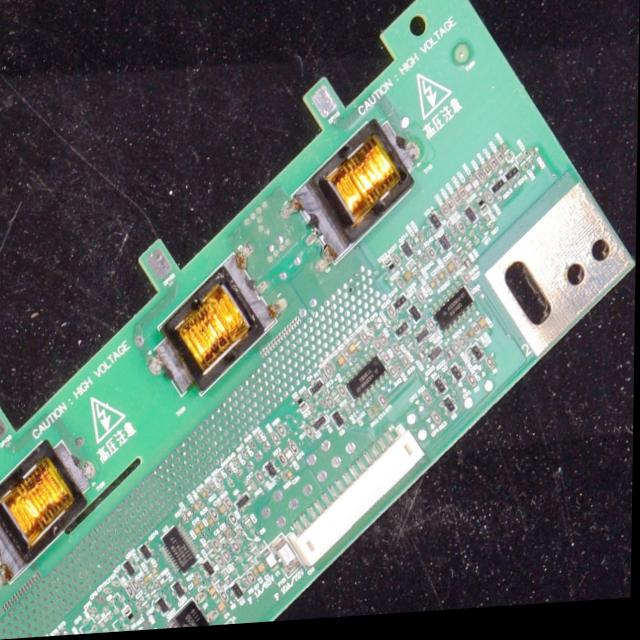IC: (427, 292, 481, 337), (343, 358, 396, 403), (161, 525, 199, 573), (171, 594, 216, 631)
capacitor: (345, 344, 362, 361), (476, 324, 495, 338), (461, 187, 477, 203), (469, 183, 484, 199), (334, 359, 350, 374), (215, 604, 232, 618), (255, 475, 270, 489), (243, 484, 257, 499), (191, 503, 206, 517), (401, 276, 417, 289), (257, 565, 273, 578), (209, 584, 221, 601), (223, 529, 237, 543), (285, 472, 300, 485), (446, 267, 459, 281), (208, 510, 221, 524), (185, 510, 198, 523), (253, 571, 266, 583), (192, 580, 205, 592), (218, 537, 232, 548), (218, 506, 230, 518), (412, 240, 423, 253), (428, 286, 440, 297), (205, 519, 217, 530), (152, 570, 164, 581), (196, 526, 210, 535), (200, 492, 211, 503), (194, 529, 205, 540), (468, 335, 478, 346), (438, 279, 449, 288), (143, 577, 153, 586)
resistor: (418, 393, 436, 413), (289, 444, 306, 460), (376, 400, 394, 415), (301, 430, 319, 445), (209, 542, 228, 556), (462, 263, 478, 278), (485, 364, 501, 379), (276, 456, 292, 471), (222, 466, 238, 481), (429, 417, 446, 431), (426, 253, 441, 268), (129, 580, 144, 595), (385, 312, 401, 326), (298, 407, 314, 421), (276, 427, 292, 441), (239, 452, 255, 466), (124, 587, 140, 601), (487, 164, 501, 179), (426, 324, 441, 338), (471, 330, 486, 344), (359, 337, 374, 351), (378, 339, 393, 353), (457, 342, 472, 356), (270, 435, 284, 450), (231, 542, 245, 557), (324, 366, 335, 385), (494, 159, 507, 175), (392, 345, 405, 361), (340, 354, 356, 367), (221, 554, 237, 567), (523, 158, 537, 172), (450, 199, 464, 213), (451, 347, 465, 361), (467, 383, 481, 397), (246, 575, 260, 589), (220, 594, 235, 607), (443, 202, 456, 217), (215, 559, 230, 572), (212, 476, 228, 488), (475, 177, 488, 191), (230, 461, 244, 474), (229, 517, 243, 530), (440, 209, 452, 224), (453, 227, 468, 239), (371, 345, 386, 357), (381, 359, 396, 371), (481, 170, 494, 183), (457, 194, 470, 207), (395, 283, 408, 296), (445, 352, 458, 365), (388, 372, 401, 385), (253, 434, 266, 447), (208, 482, 221, 495), (416, 295, 428, 309), (366, 413, 378, 427), (482, 200, 495, 212), (391, 260, 404, 272), (326, 400, 339, 412), (248, 442, 260, 455), (328, 363, 339, 377), (528, 153, 540, 165), (250, 482, 262, 494), (244, 579, 255, 592), (461, 280, 475, 290), (400, 363, 414, 373), (417, 237, 428, 249), (224, 502, 236, 513), (464, 337, 474, 350), (63, 625, 74, 636), (320, 378, 331, 389), (309, 407, 320, 418), (343, 409, 354, 420), (303, 395, 315, 405), (421, 260, 431, 271), (339, 391, 349, 402), (415, 264, 425, 273), (56, 633, 69, 637)
transistor: (117, 558, 147, 582), (229, 495, 260, 518), (465, 228, 492, 253), (329, 414, 355, 438), (135, 540, 161, 564), (307, 417, 334, 439), (226, 585, 252, 607), (260, 462, 284, 485), (397, 244, 420, 265), (169, 584, 193, 604), (78, 617, 102, 636), (199, 563, 224, 581), (153, 599, 174, 617)
